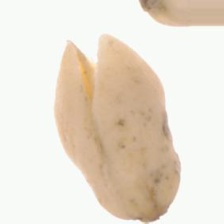L1: (65, 31, 107, 102), (124, 191, 176, 223)
L2: (55, 34, 182, 221)
